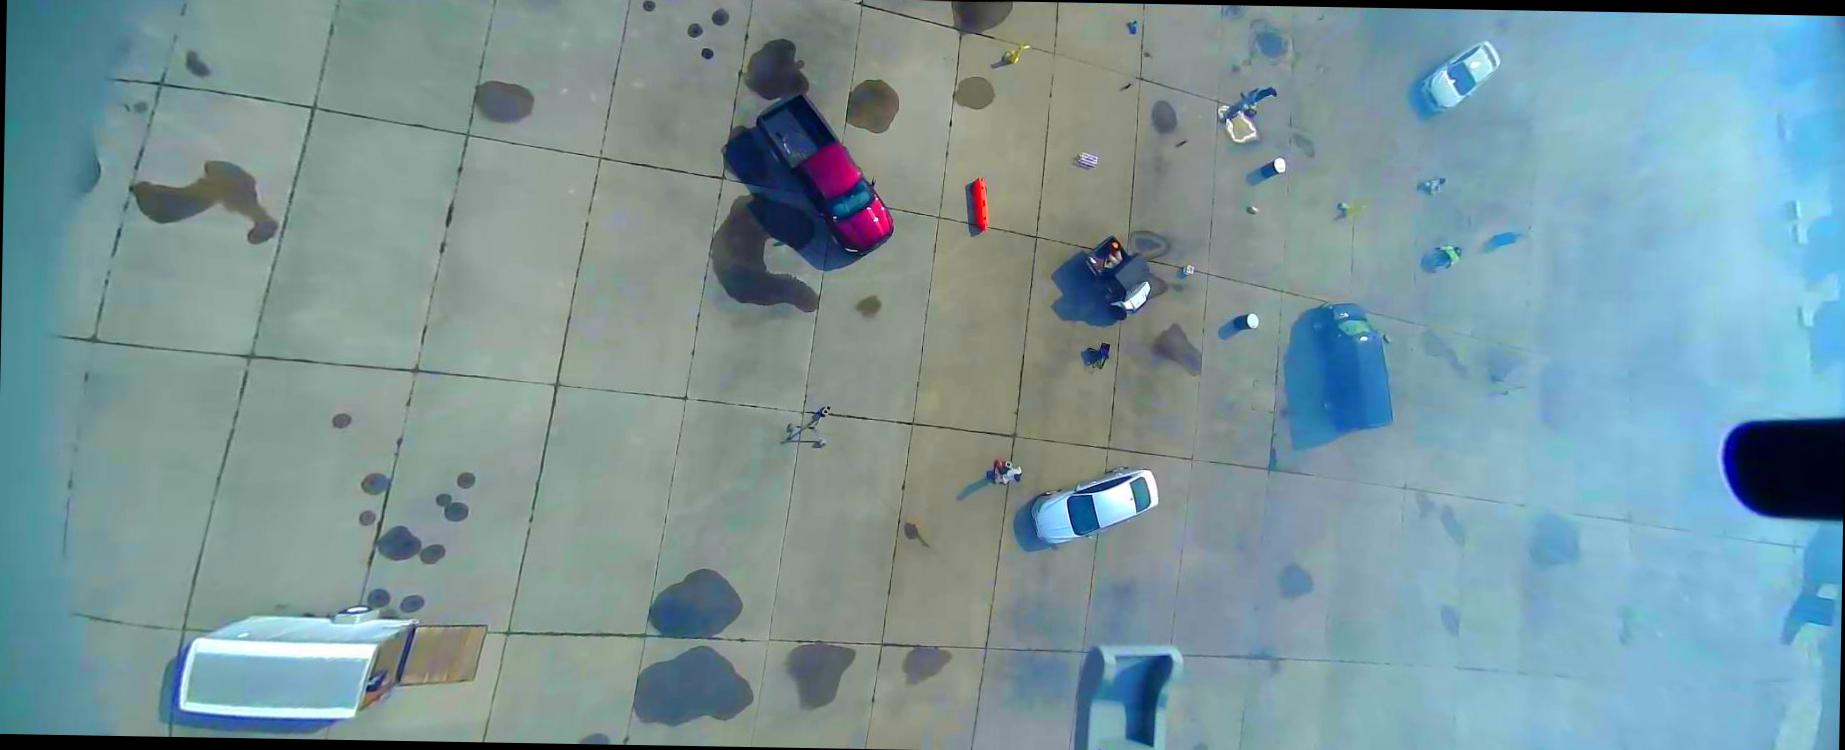vehicle: (752, 89, 897, 259), (1308, 301, 1396, 432), (1028, 464, 1159, 547), (1417, 38, 1501, 115), (1075, 235, 1152, 321)
